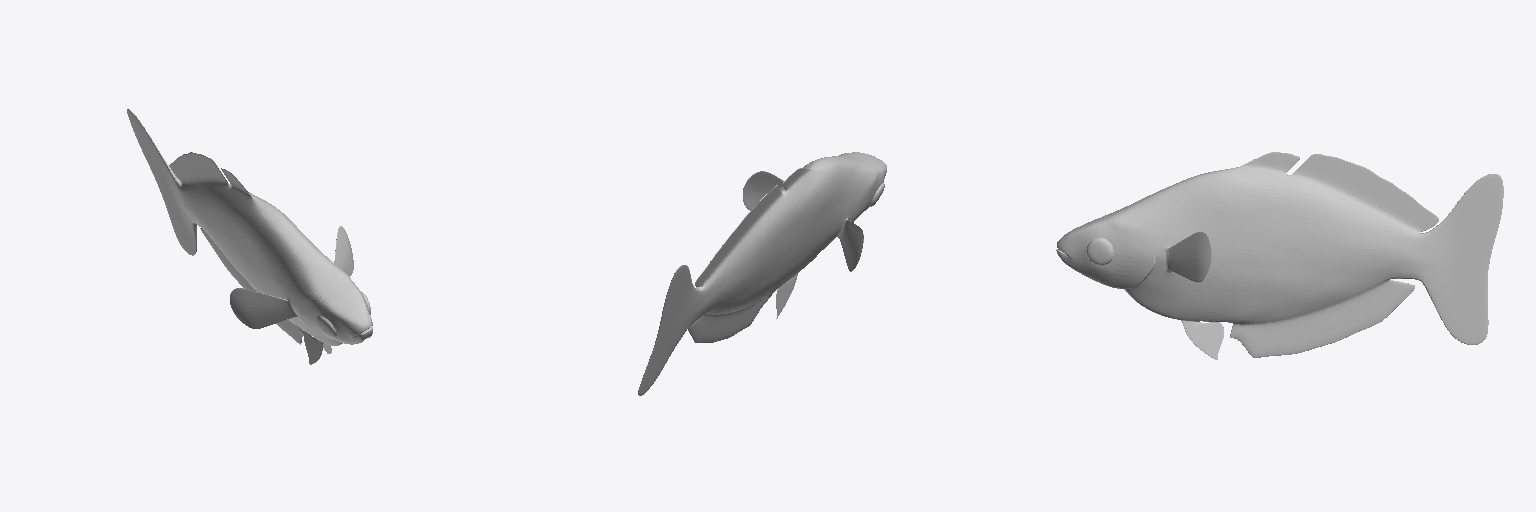
Rendered from 12999_Boesemani_Rainbow_v1_l2.obj.
The picture shows the model from 3 angles: view 1: azimuth 30°, elevation 25°; view 2: azimuth 150°, elevation 25°; view 3: azimuth 270°, elevation 25°; orthographic projection.
Visible parts, largest first — view 1: 12999_Boesemani_Rainbow_v1_l2; view 2: 12999_Boesemani_Rainbow_v1_l2; view 3: 12999_Boesemani_Rainbow_v1_l2.
Boxes of the visible parts, x1=… form: 12999_Boesemani_Rainbow_v1_l2: x1=127, y1=109, x2=372, y2=364; 12999_Boesemani_Rainbow_v1_l2: x1=638, y1=152, x2=886, y2=395; 12999_Boesemani_Rainbow_v1_l2: x1=1056, y1=152, x2=1503, y2=359.
Bounding box in the file's own units: 3.45 × 4.96 × 11.04.